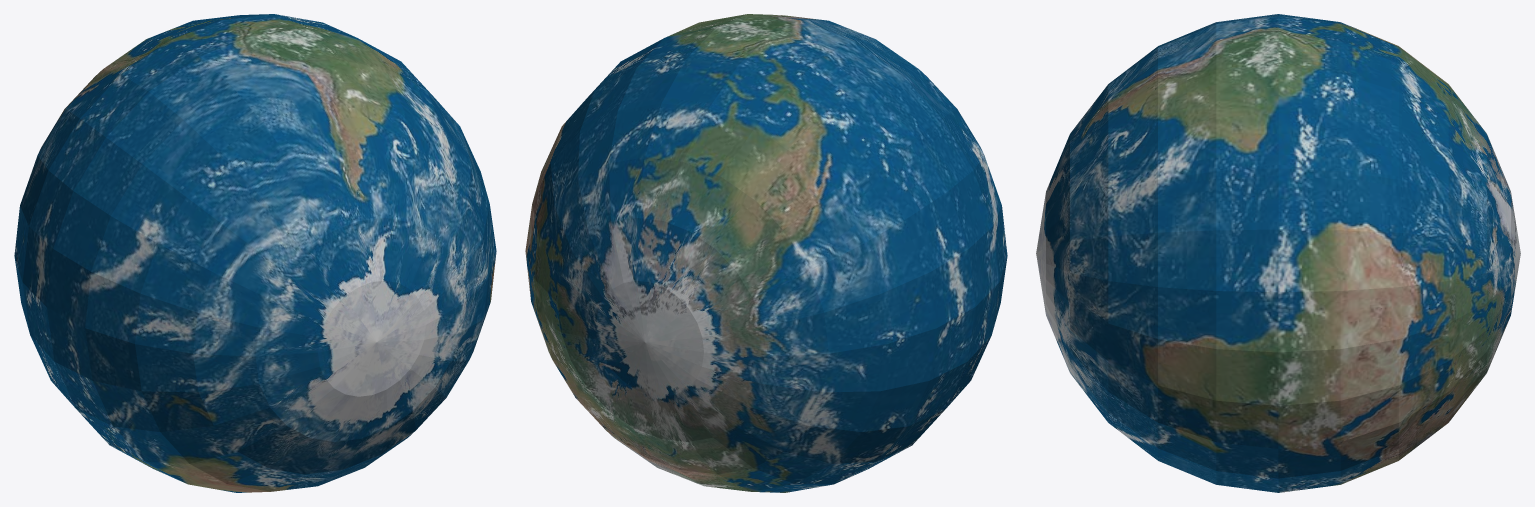
Rendered from RioCreative-01a.glb.
3 renders of one model, left to right at view 1: azimuth 30°, elevation 25°; view 2: azimuth 150°, elevation 25°; view 3: azimuth 270°, elevation 25°, orthographic.
Parts seen in each view (by area): view 1: Earth; view 2: Earth; view 3: Earth.
Boxes of the visible parts, bbox=[...] form: Earth: bbox=[14, 14, 496, 492]; Earth: bbox=[525, 14, 1007, 492]; Earth: bbox=[1036, 14, 1520, 492].
Bounding box in the file's own units: 0.2287 × 0.2287 × 0.2303.
1 material, 1 textured.
